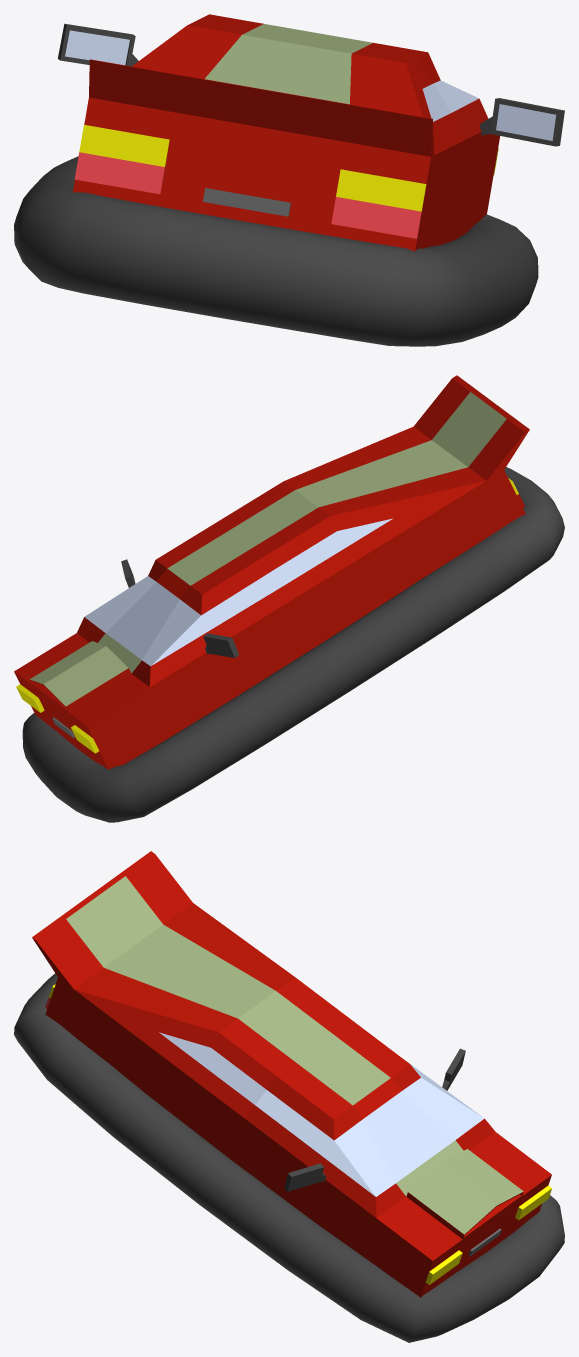
File: car5.fbx
3 views of the same model, one above another, from view 1: azimuth 30°, elevation 25°; view 2: azimuth 150°, elevation 25°; view 3: azimuth 270°, elevation 25° (orthographic). The views are drawn at different scales.
Parts seen in each view (by area): view 1: car.004, airCussion.004, sideMirrorRight.004, sideMirrorLeft.004; view 2: car.004, airCussion.004, sideMirrorLeft.004; view 3: car.004, airCussion.004, sideMirrorRight.004.
Boxes of the visible parts, x1,y1,x2,y2 form: car.004: [73, 14, 499, 251]; airCussion.004: [14, 156, 538, 346]; sideMirrorRight.004: [480, 98, 564, 146]; sideMirrorLeft.004: [58, 23, 138, 66]; car.004: [14, 375, 529, 769]; airCussion.004: [22, 467, 564, 822]; sideMirrorLeft.004: [203, 633, 239, 657]; car.004: [32, 851, 551, 1297]; airCussion.004: [14, 973, 564, 1342]; sideMirrorRight.004: [284, 1163, 326, 1191].
Size of the model in its own units: 77.62 by 58.74 by 91.79.
